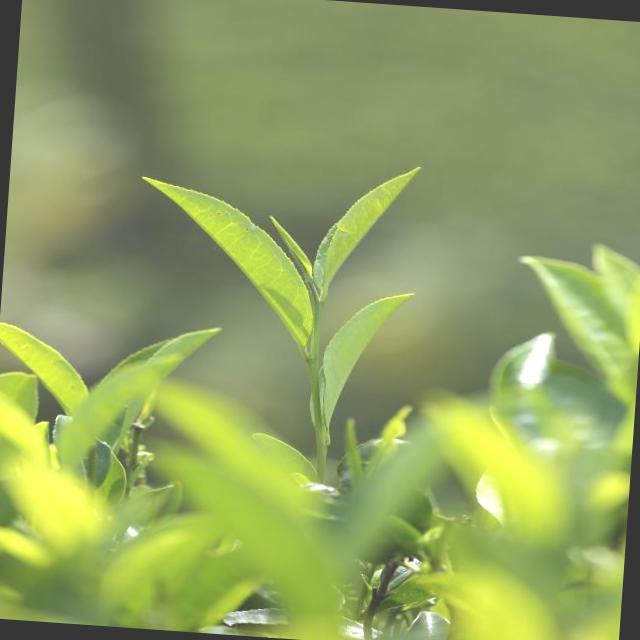Stem: (314, 301, 323, 316)
